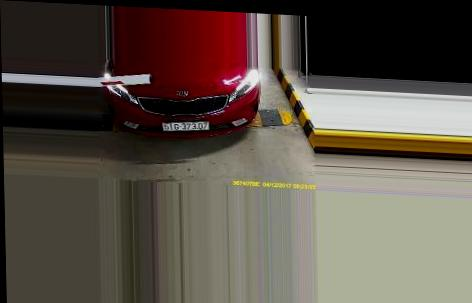License_Plate: (161, 117, 211, 133)
